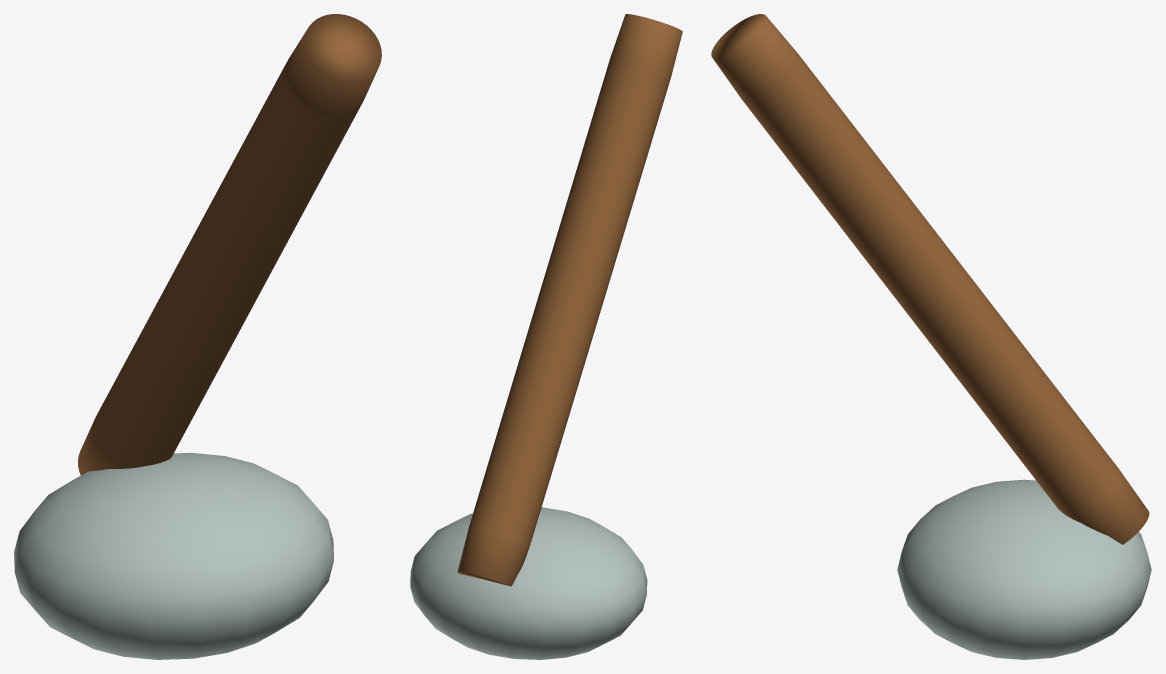
Rendered from ladle.obj.
3 renders of one model, left to right at view 1: azimuth 30°, elevation 25°; view 2: azimuth 150°, elevation 25°; view 3: azimuth 270°, elevation 25°, orthographic. The views are drawn at different scales.
Visible parts, largest first — view 1: ladle_metal, ladle_oakDark; view 2: ladle_oakDark, ladle_metal; view 3: ladle_oakDark, ladle_metal.
Part boxes in pixels (left/top/right/bottom): ladle_metal: left=14, top=452, right=333, bottom=659; ladle_oakDark: left=78, top=14, right=381, bottom=475; ladle_oakDark: left=457, top=14, right=682, bottom=586; ladle_metal: left=410, top=507, right=647, bottom=659; ladle_oakDark: left=711, top=14, right=1149, bottom=544; ladle_metal: left=897, top=479, right=1151, bottom=659.
Size of the model in its own units: 0.092 by 0.2257 by 0.1454.
